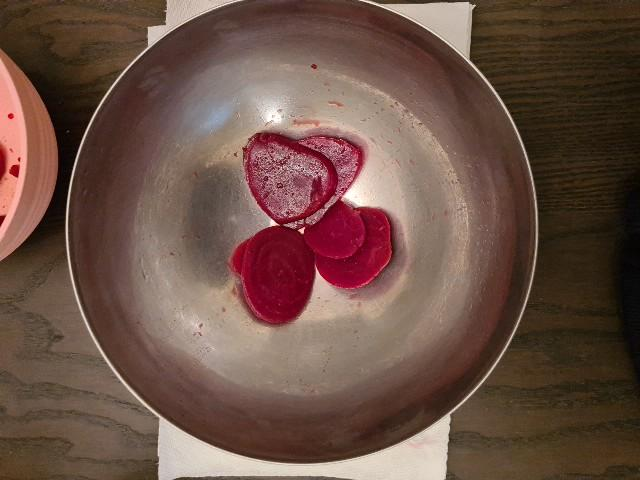kichen waste: (229, 133, 393, 324)
